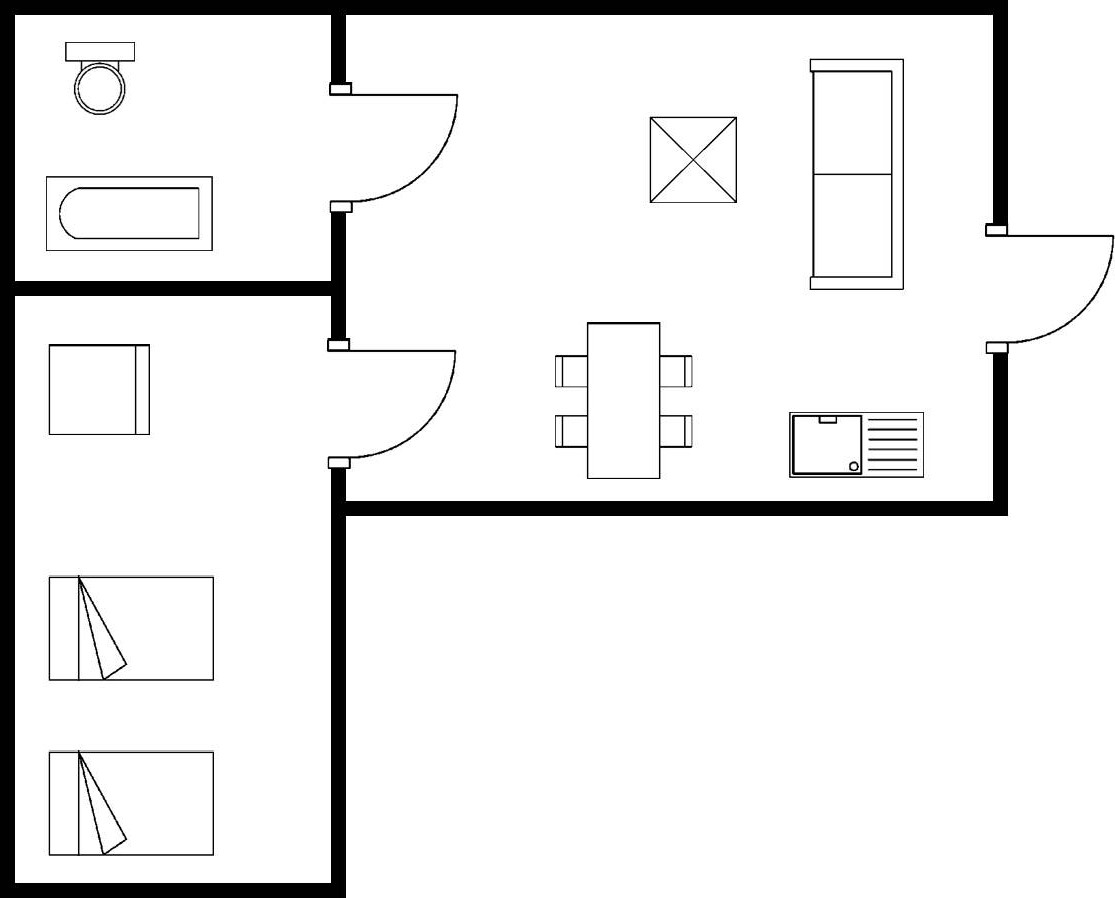bed: (41, 743, 220, 863), (44, 569, 220, 688)
coffee_table: (643, 110, 742, 211)
dining_table: (548, 317, 700, 485)
large_sink: (60, 36, 141, 120)
large_sofa: (801, 52, 909, 297)
sink: (783, 407, 928, 484)
small_sofa: (42, 337, 157, 443)
tub: (38, 169, 221, 258)
